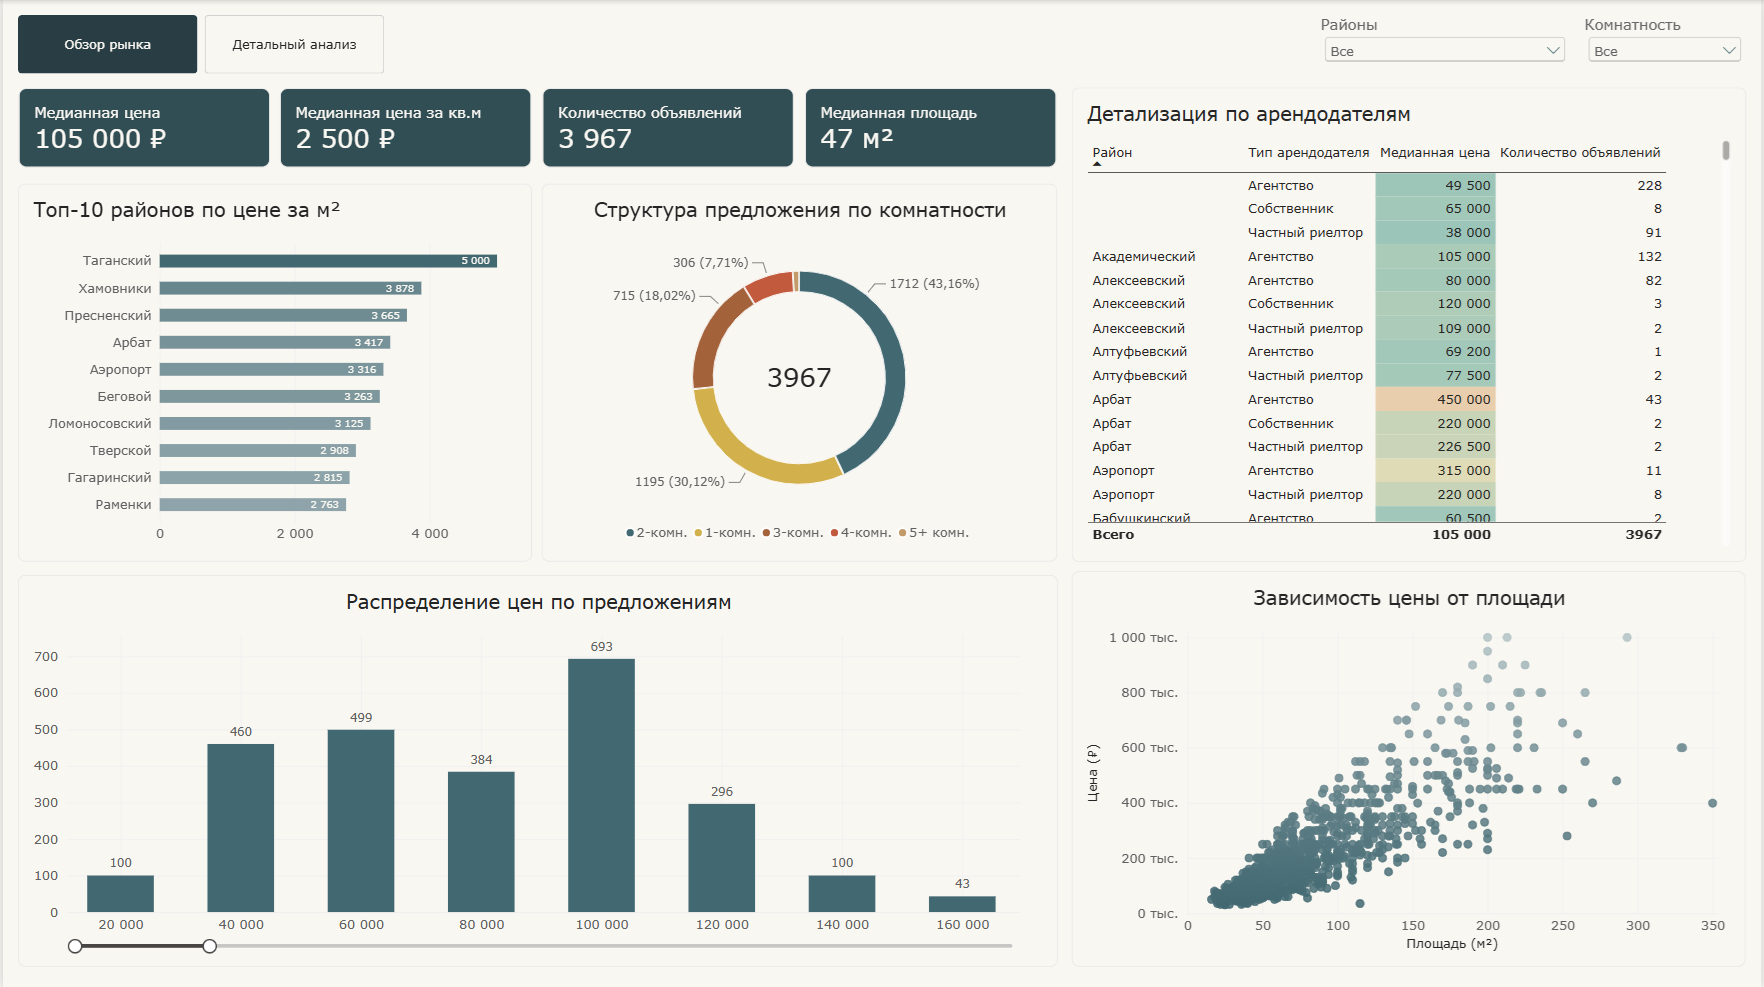

The dashboard page shown, as its layout file describes it:
{"tool":"powerbi","page":{"name":"Обзор рынка","canvas":[1920,1080],"ordinal":0},"visuals":[{"type":"cardVisual","fields":{"Data":["rent_offers.Медианная цена"]},"box":[16,96,276.1,88.6],"z":0},{"type":"tableEx","title":"Детализация по арендодателям","fields":{"Values":["rent_offers.district","rent_offers.Тип арендодателя (RU)","rent_offers.Медианная цена","rent_offers.Количество объявлений"]},"box":[1167.7,95.3,736.5,518.4],"z":1000},{"type":"barChart","title":"Топ-10 районов по цене за м²","fields":{"Category":["rent_offers.district"],"Y":["rent_offers.Средняя цена за кв.м"]},"box":[16.1,200.5,561.6,413],"z":2000},{"type":"columnChart","title":"Распределение цен по предложениям","fields":{"Category":["rent_offers.price (ячейки)"],"Y":["rent_offers.Количество объявлений"]},"box":[16.2,627.9,1135.8,428.1],"z":3000},{"type":"cardVisual","fields":{"Data":["rent_offers.Средняя цена за кв.м"]},"box":[302.5,96,276.1,88.6],"z":4000},{"type":"scatterChart","title":"Зависимость цены от площади","fields":{"X":["rent_offers.area"],"Y":["rent_offers.price"]},"box":[1168,624,736,432],"z":5000},{"type":"donutChart","title":"Структура предложения по комнатности","fields":{"Category":["rent_offers.rooms_label"],"Y":["rent_offers.Количество объявлений"]},"box":[588.9,200.5,563,413],"z":6000},{"type":"pageNavigator","box":[16,16,400,64],"z":7000},{"type":"slicer","title":"Районы","fields":{"Values":["rent_offers.Район"]},"box":[1440,16,272,64],"z":8000,"group":"g1"},{"type":"cardVisual","fields":{"Data":["rent_offers.Количество объявлений"]},"box":[588.9,96,276.1,88.6],"z":8000},{"type":"slicer","title":"Комнатность","fields":{"Values":["rent_offers.rooms_label"]},"box":[1728,16,176,64],"z":9000,"group":"g1"},{"type":"cardVisual","fields":{"Data":["rent_offers.Медианная площадь"]},"box":[875.4,96,276.1,88.6],"z":9000},{"type":"group","id":"g1","title":"Группа 1","box":[1440,16,464,64],"z":10000}]}

Visuals, with their boxes in screenshot pixels (x1, y1, x2, y2), scaled from the page's 1920x1080 canvas onto the 1764x987 screenshot:
cardVisual - rent_offers.Медианная цена: locate(15, 88, 268, 169)
"Детализация по арендодателям" tableEx: locate(1073, 87, 1749, 561)
"Топ-10 районов по цене за м²" barChart: locate(15, 183, 531, 561)
"Распределение цен по предложениям" columnChart: locate(15, 574, 1058, 965)
cardVisual - rent_offers.Средняя цена за кв.м: locate(278, 88, 532, 169)
"Зависимость цены от площади" scatterChart: locate(1073, 570, 1749, 965)
"Структура предложения по комнатности" donutChart: locate(541, 183, 1058, 561)
pageNavigator: locate(15, 15, 382, 73)
"Районы" slicer: locate(1323, 15, 1573, 73)
cardVisual - rent_offers.Количество объявлений: locate(541, 88, 795, 169)
"Комнатность" slicer: locate(1588, 15, 1749, 73)
cardVisual - rent_offers.Медианная площадь: locate(804, 88, 1058, 169)
"Группа 1" group: locate(1323, 15, 1749, 73)
